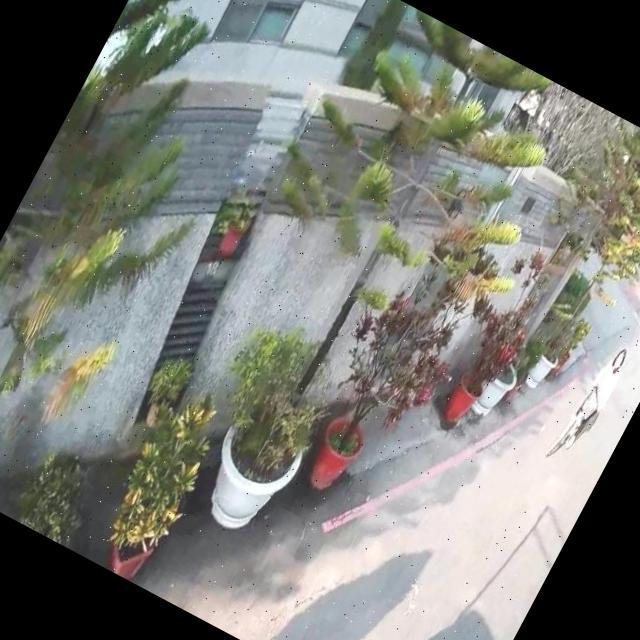person: (556, 338, 634, 454)
